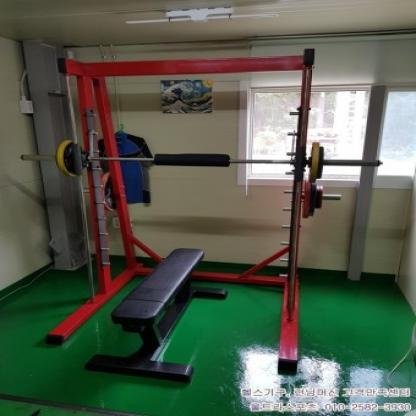smith machine: (53, 49, 318, 373)
